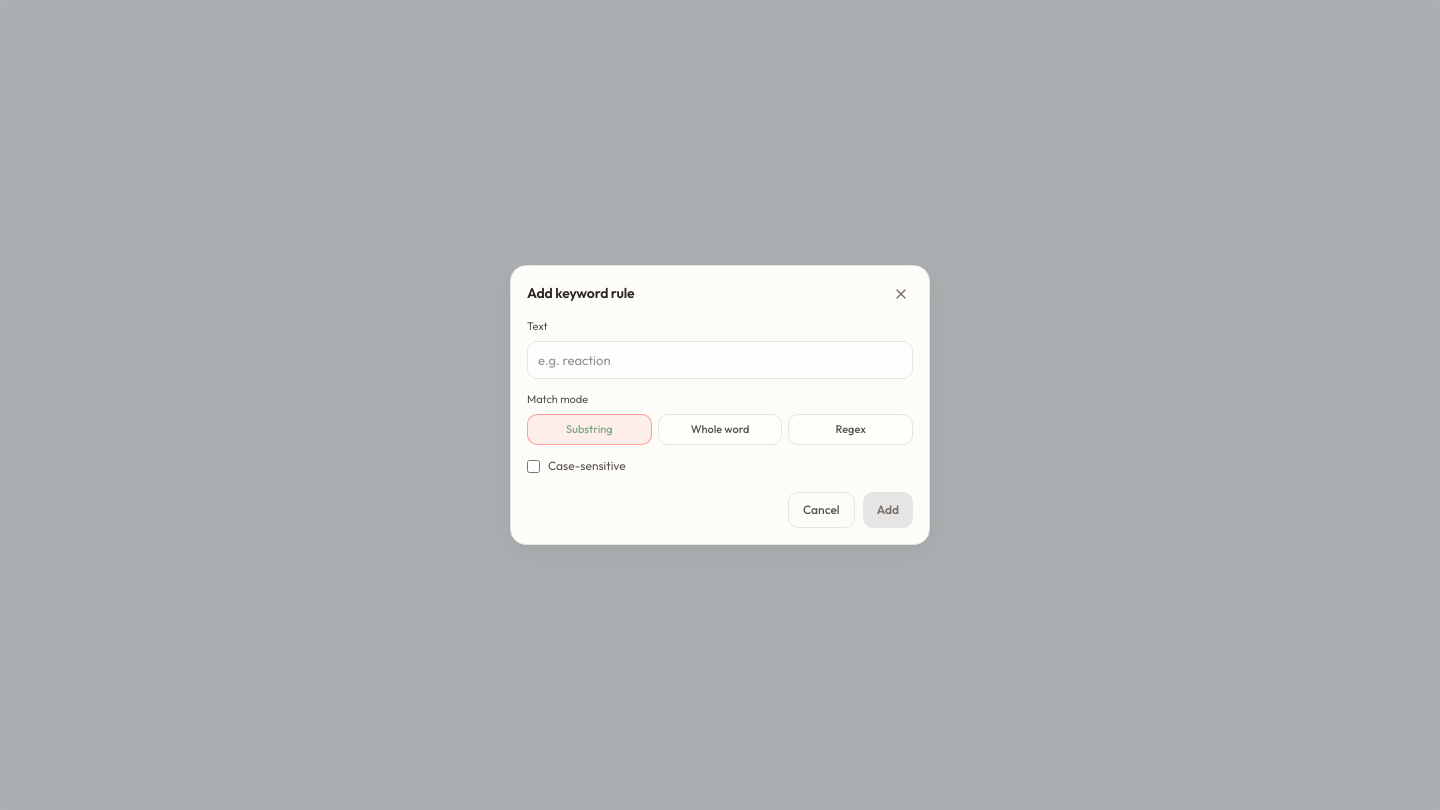
Test: <AddRuleDialog /> › shows an inline error and disables save when regex is invalid
# Switch to regex mode.
Step 1. Click the radio button "Regex" → (851, 430), box [788, 414, 913, 445]
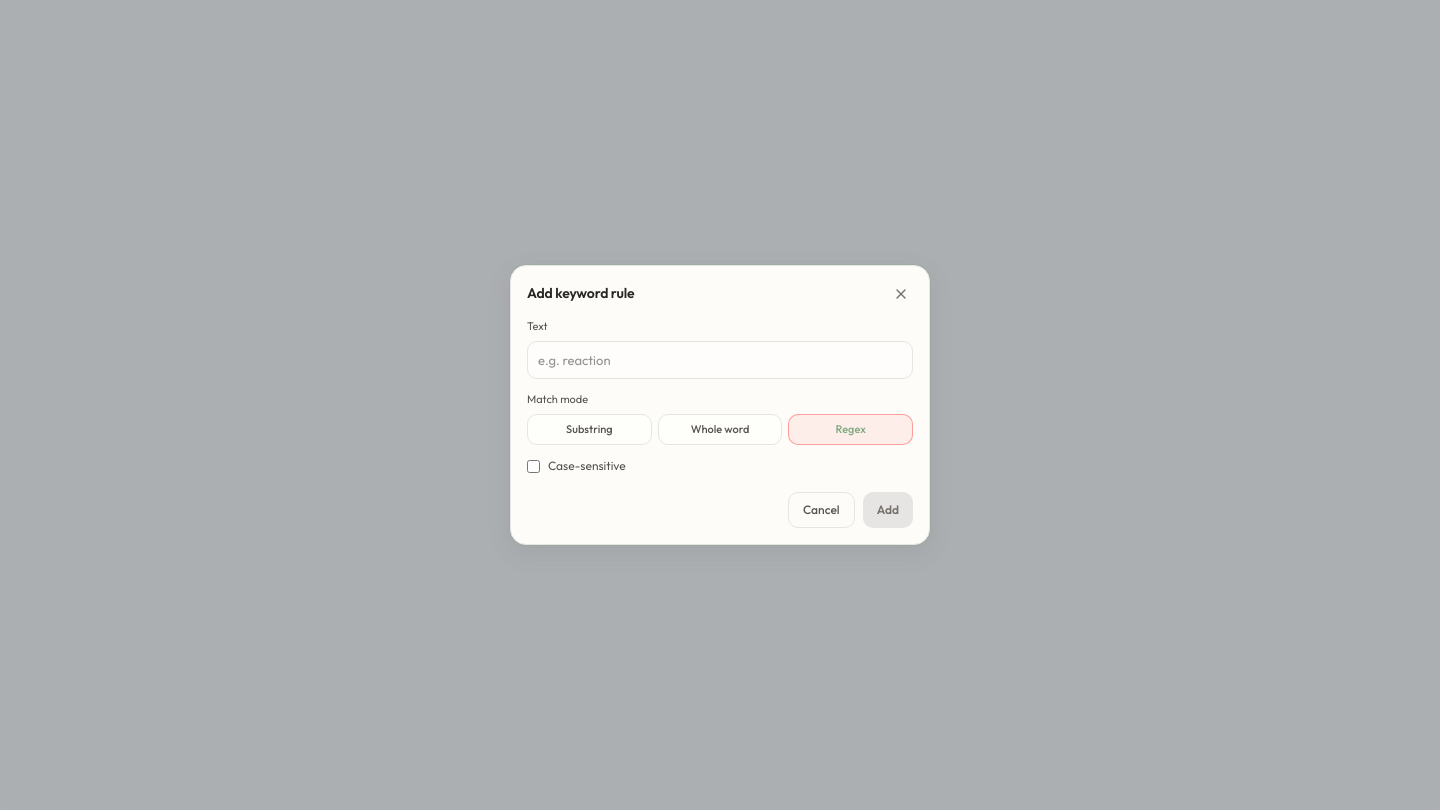
Step 2. Type "[unclosed" into the field with placeholder "e.g. reaction" → (720, 360), box [527, 341, 913, 379]
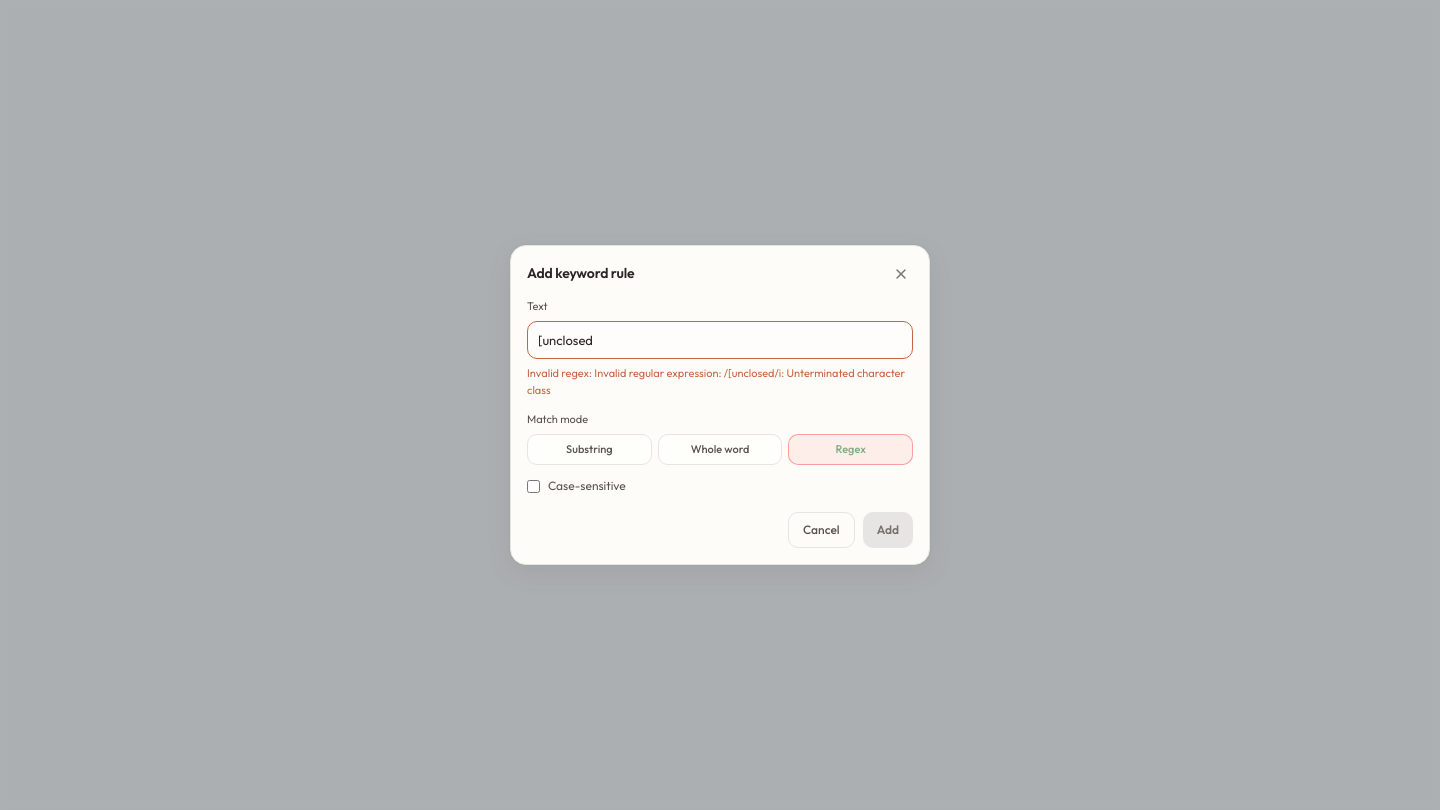
Expected: the button "Add" is disabled, [863, 512, 913, 548]
Expected: the text "Invalid regex" is shown, [527, 366, 594, 380]
